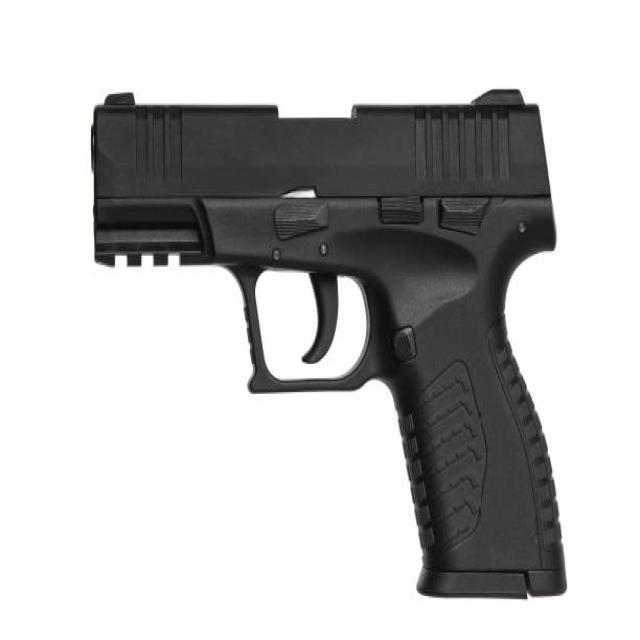pistol: (84, 82, 577, 616)
